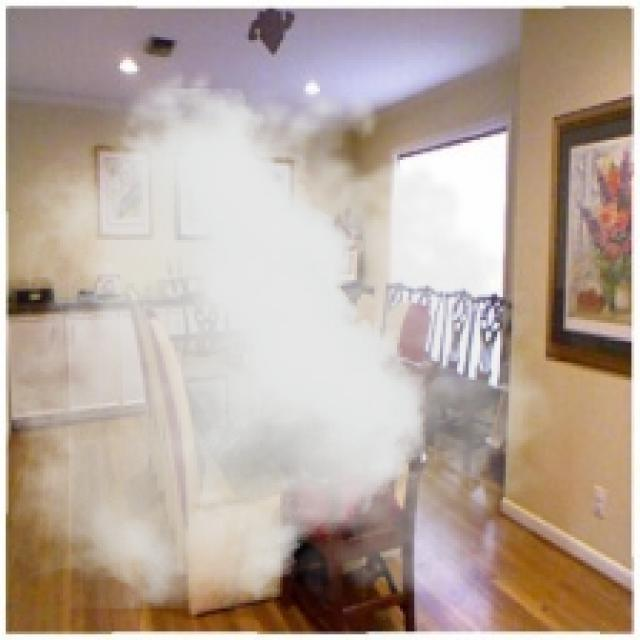Smoke: (11, 54, 572, 609)
